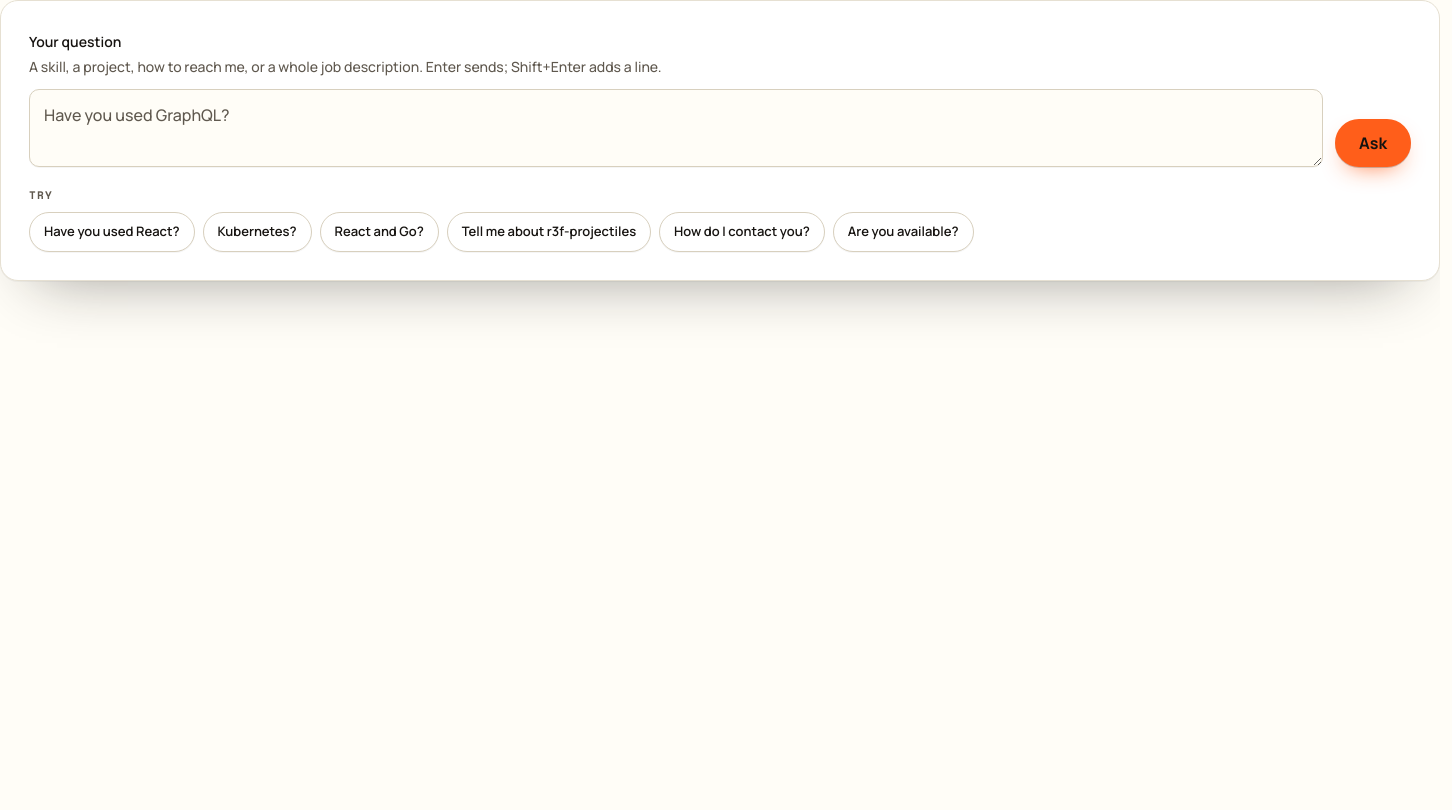
Scenario: AskPanel › each card has one meta line: the entry once, the dates, and a short source link named in full
The image size is (1452, 810).
In the text box labelled "Your question": [676, 128] box x1=29 y1=89 x2=1323 y2=167, type "Have you used React?"
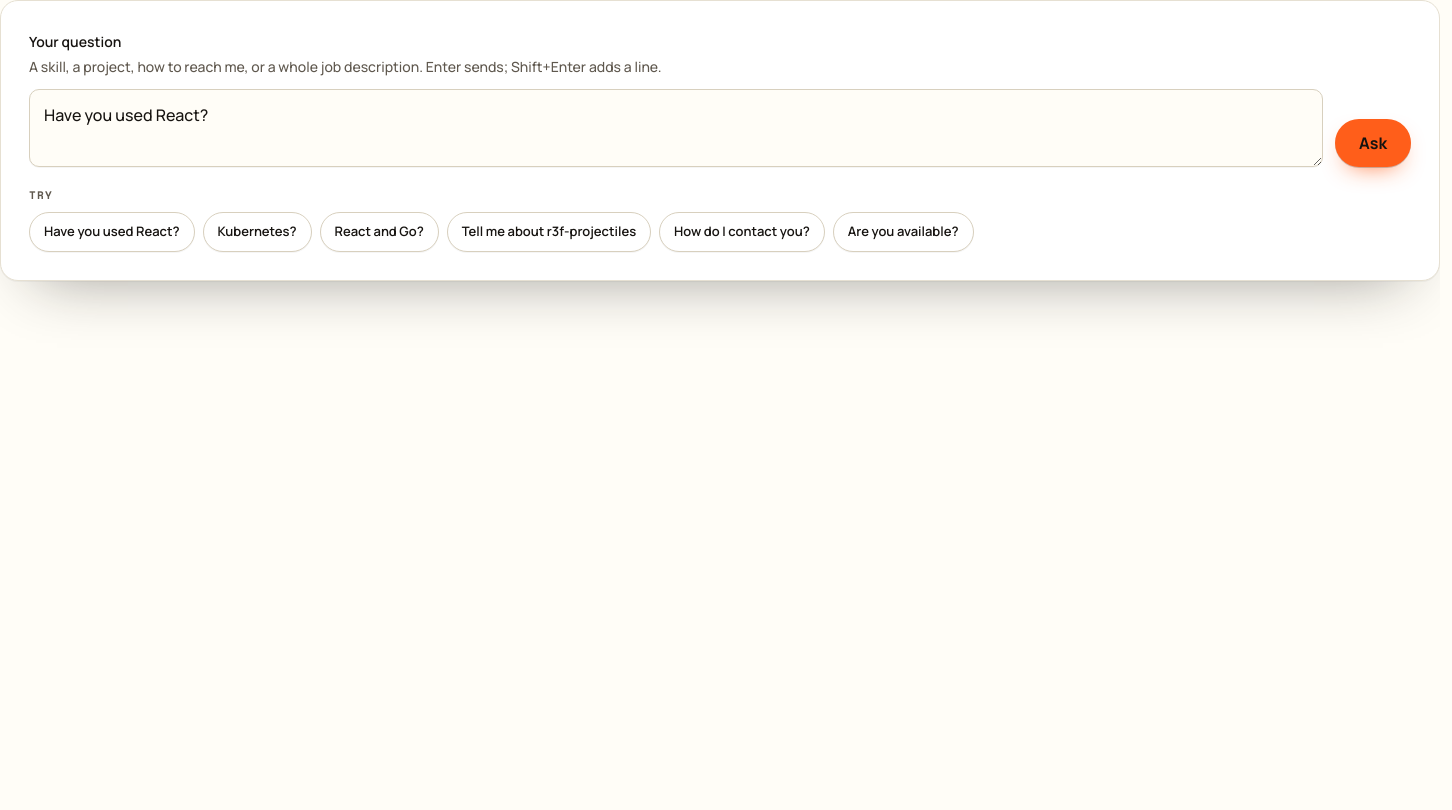
Press Enter in the text box labelled "Your question", box x1=29 y1=89 x2=1323 y2=167
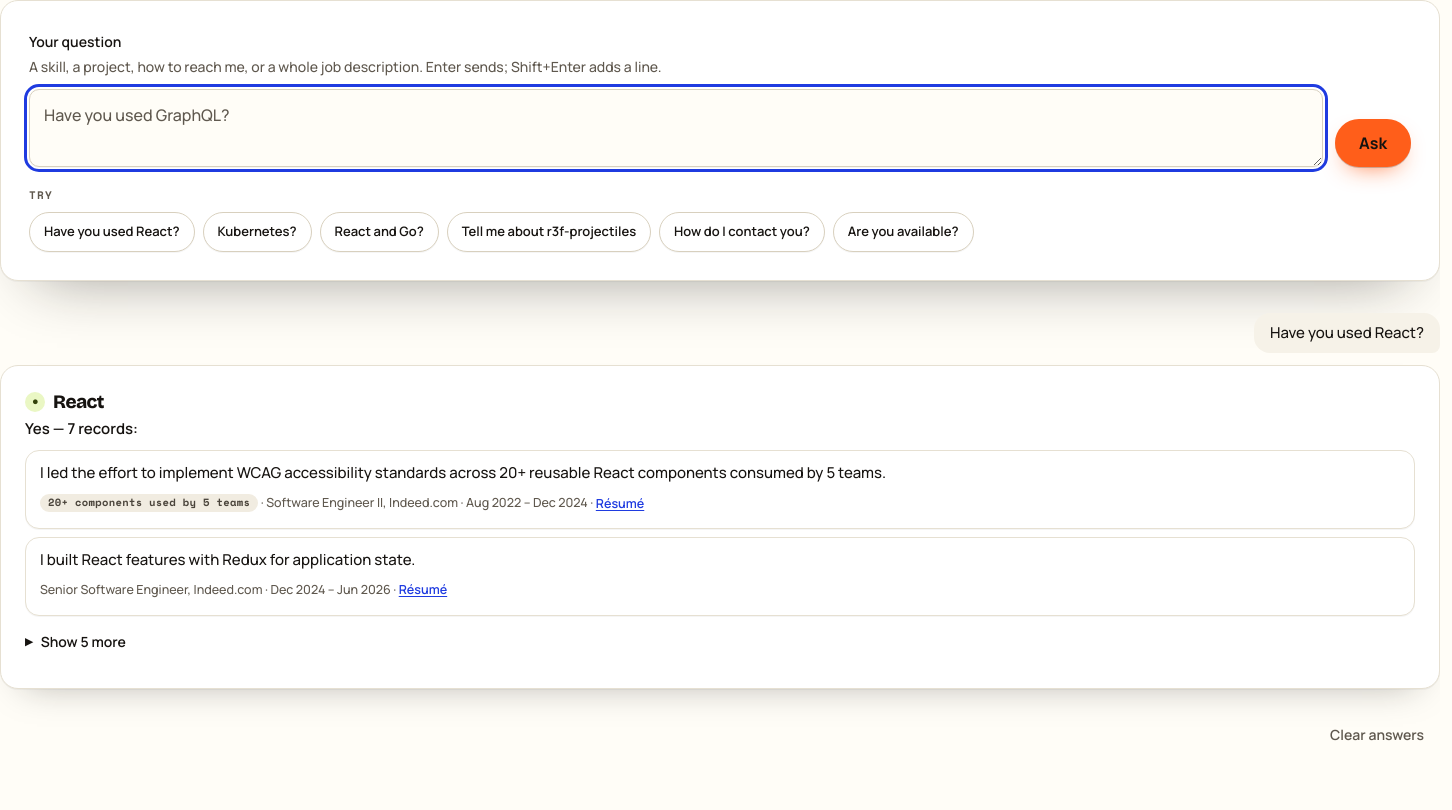
Expected: the number of list items with test id "ask-turn" is 1, x1=0 y1=312 x2=1440 y2=689
Expected: the link "Résumé" next to "Aug 2022 – Dec 2024" is shown, x1=596 y1=492 x2=644 y2=516
Expected: the link "Résumé" next to "Dec 2024 – Jun 2026" is shown, x1=399 y1=579 x2=447 y2=603
